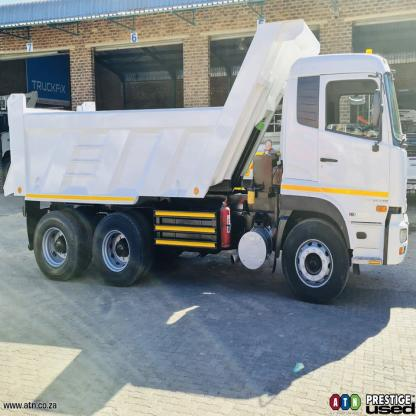dump_truck: (6, 13, 410, 308)
